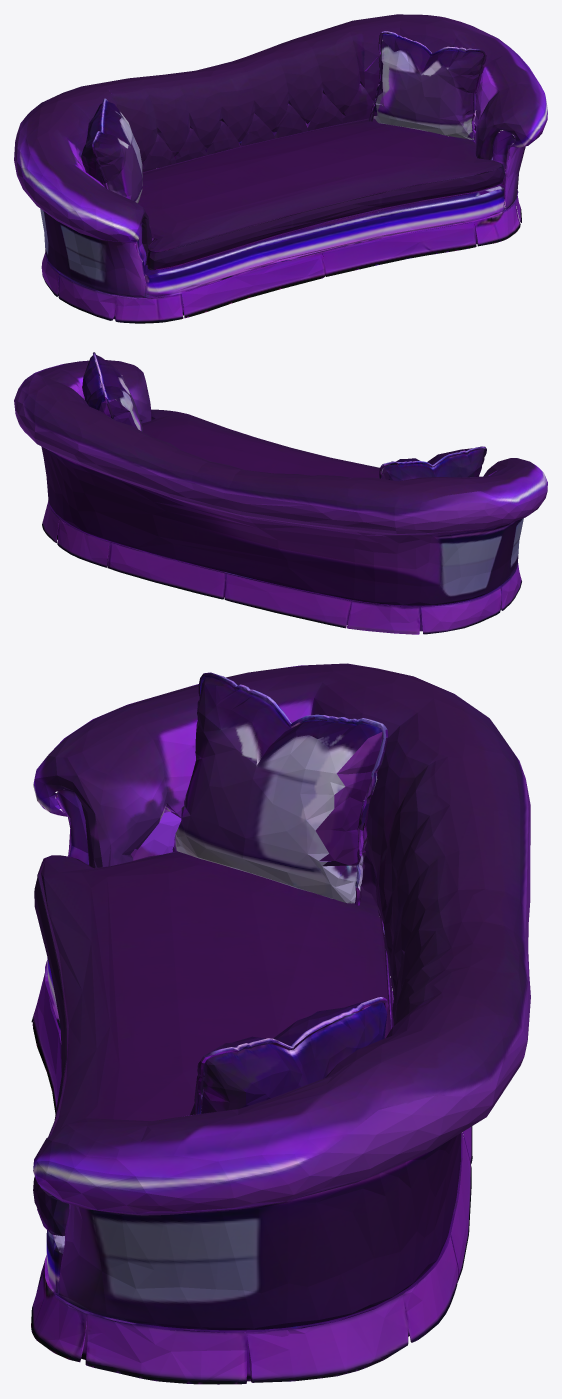
File: edited_mesh.glb
3 views of the same model, one above another, from view 1: azimuth 30°, elevation 25°; view 2: azimuth 150°, elevation 25°; view 3: azimuth 270°, elevation 25° (orthographic). The views are drawn at different scales.
Parts seen in each view (by area): view 1: solid_001_wire; view 2: solid_001_wire; view 3: solid_001_wire.
Boxes of the visible parts, x1,y1,x2,y2 form: solid_001_wire: (14, 14, 547, 323); solid_001_wire: (14, 352, 547, 634); solid_001_wire: (31, 663, 530, 1384).
Size of the model in its own units: 2 by 0.5993 by 0.8724.
Materials: 1 (1 with a texture image).
